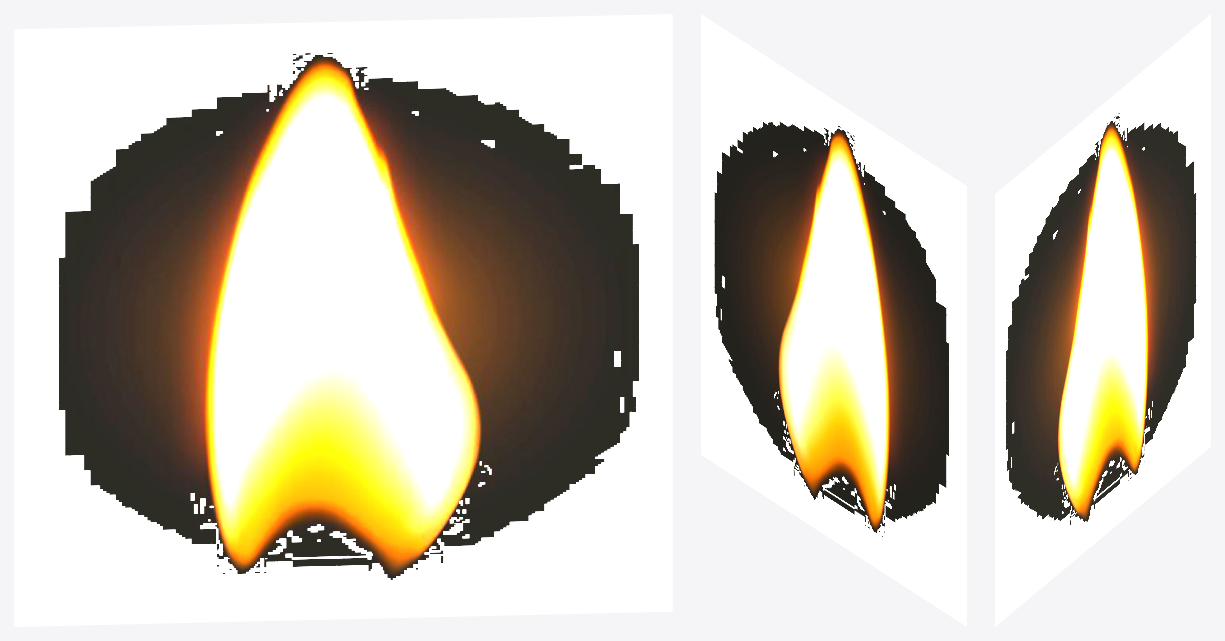
The picture shows the model from 3 angles, left to right: view 1: azimuth 30°, elevation 25°; view 2: azimuth 150°, elevation 25°; view 3: azimuth 270°, elevation 25°; orthographic projection. The views are drawn at different scales.
Visible parts, largest first — view 1: _273; view 2: _273; view 3: _273.
Boxes of the visible parts, x1,y1,x2,y2 form: _273: (14,14,672,626); _273: (701,14,966,626); _273: (995,14,1210,626).
Bounding box in the file's own units: 6.33 × 7.1 × 3.21.
